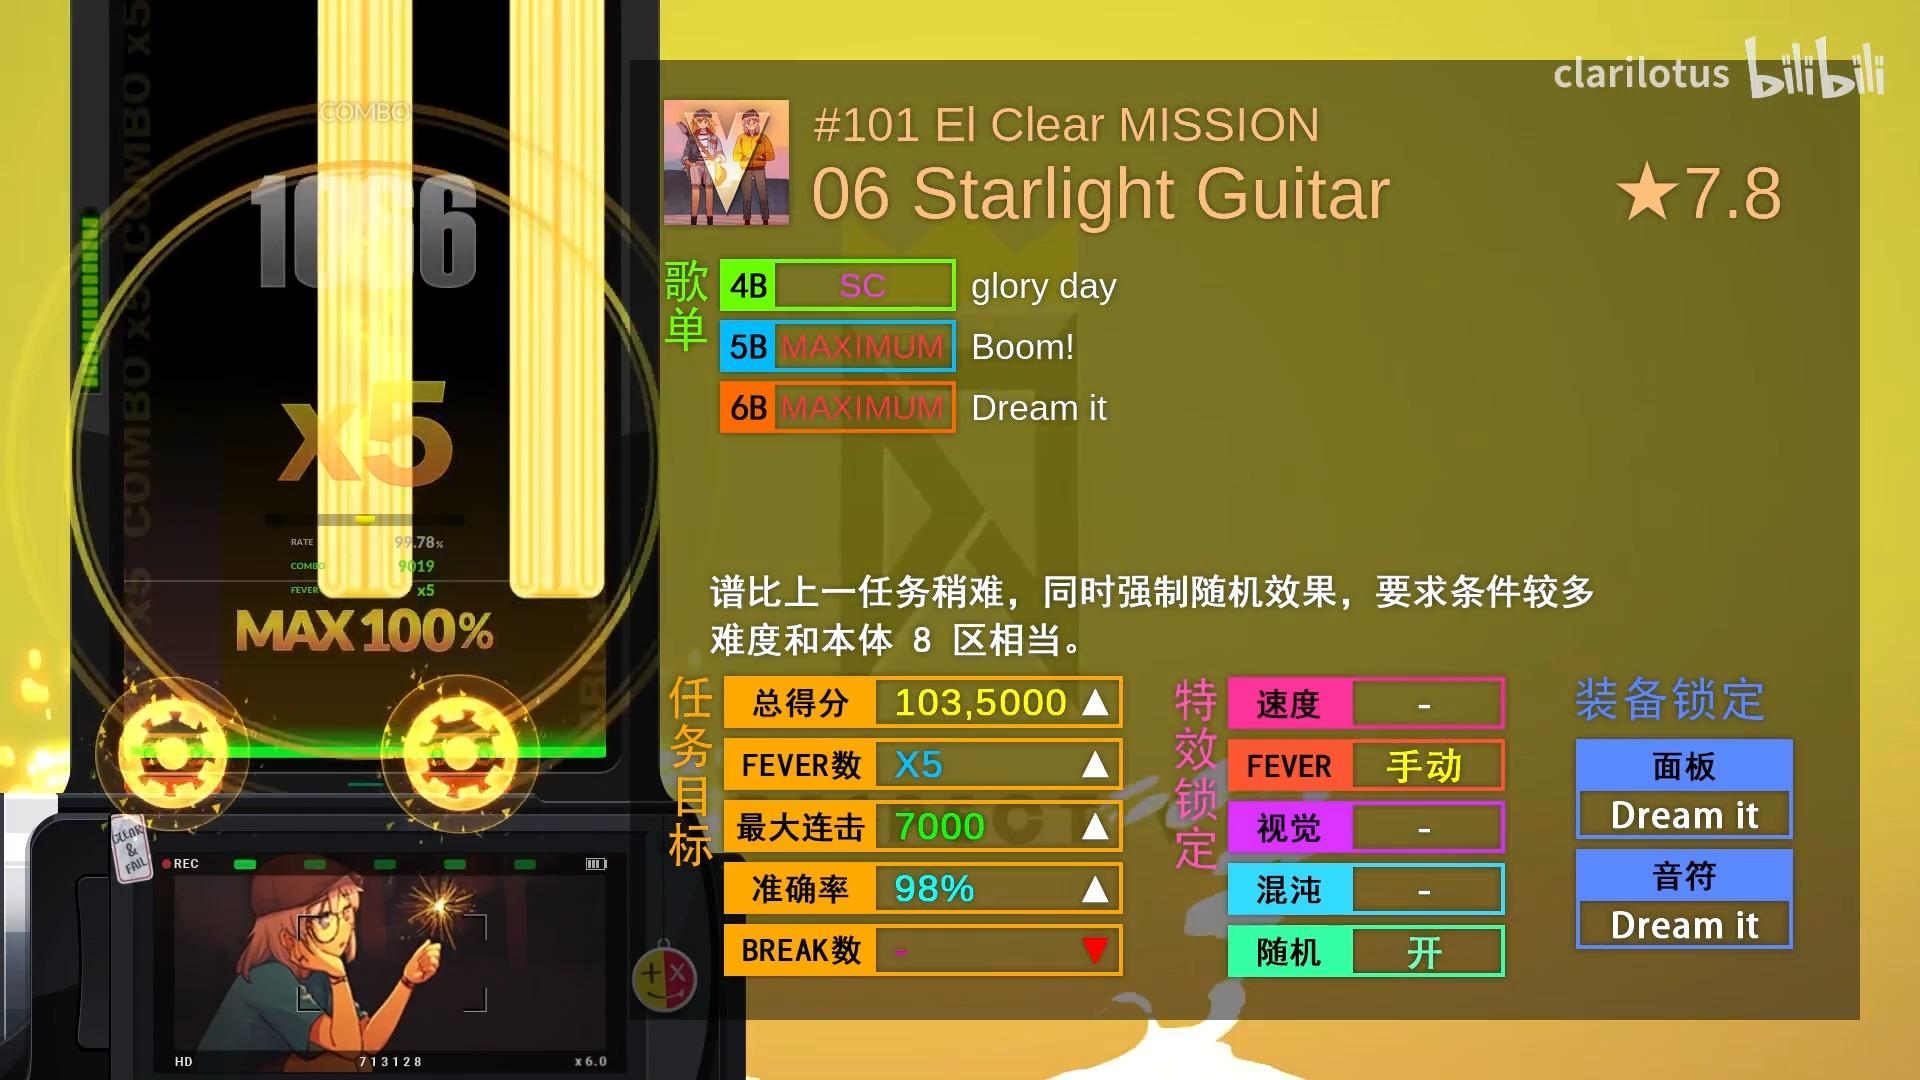hold-start: (316, 553, 415, 597), (509, 554, 604, 600)
